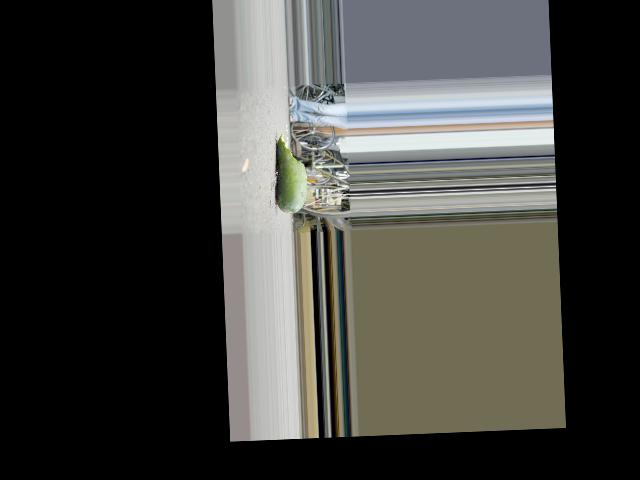cucumber: (273, 131, 308, 213)
